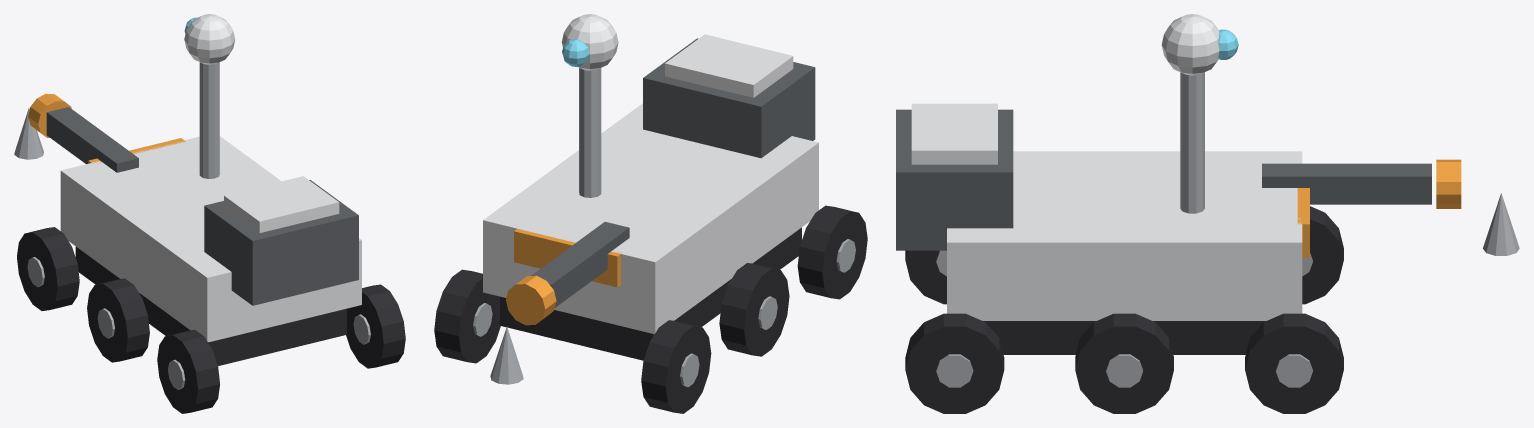
The model's file is SM_Unit_GeologistBot.fbx.
The picture shows the model from 3 angles, left to right: view 1: azimuth 30°, elevation 25°; view 2: azimuth 150°, elevation 25°; view 3: azimuth 270°, elevation 25°; orthographic projection. The views are drawn at different scales.
Visible parts, largest first — view 1: SM_Unit_GeologistBot; view 2: SM_Unit_GeologistBot; view 3: SM_Unit_GeologistBot.
Part boxes in pixels (left/top/right/bottom): SM_Unit_GeologistBot: left=14, top=14, right=405, bottom=413; SM_Unit_GeologistBot: left=434, top=14, right=867, bottom=413; SM_Unit_GeologistBot: left=896, top=14, right=1519, bottom=413.
Size of the model in its own units: 0.96 by 1.26 by 2.02.
